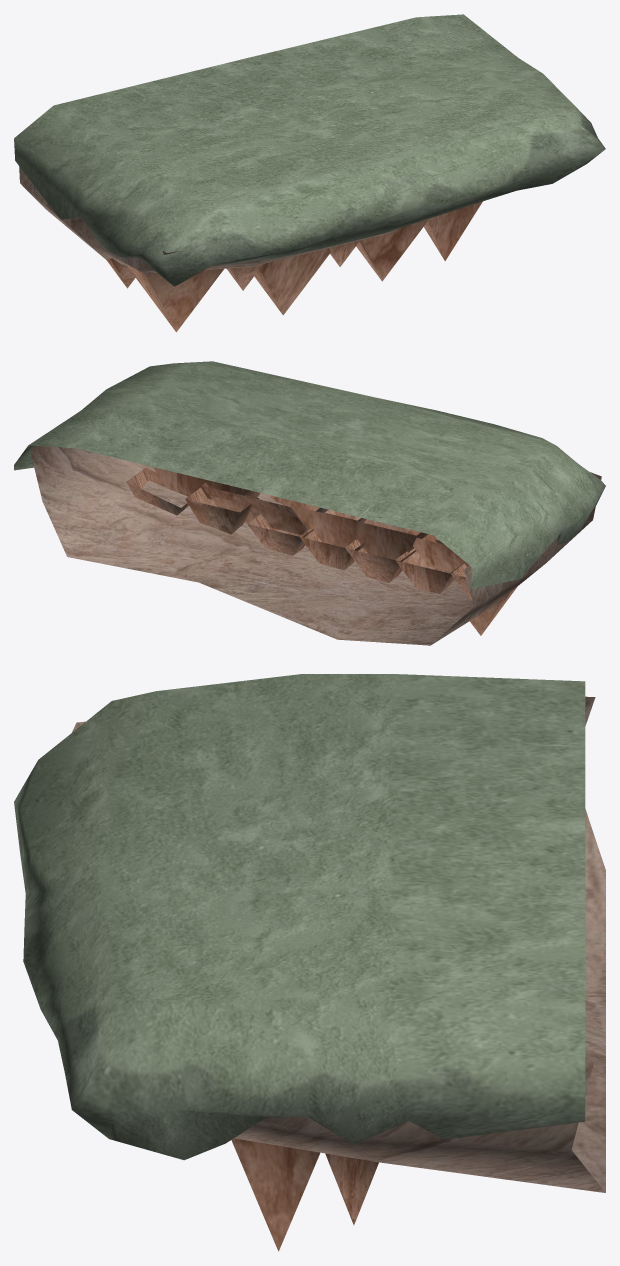
The model's file is pedraSpyke.fbx.
3 views of the same model, one above another, from view 1: azimuth 30°, elevation 25°; view 2: azimuth 150°, elevation 25°; view 3: azimuth 270°, elevation 25° (orthographic). The views are drawn at different scales.
Parts seen in each view (by area): view 1: Box001_001; view 2: Box001_001; view 3: Box001_001.
Part boxes in pixels (x1,y1,x2,y2): Box001_001: (14,14,605,332); Box001_001: (14,361,605,645); Box001_001: (14,674,605,1251).
Size of the model in its own units: 27.88 by 10.59 by 16.68.
